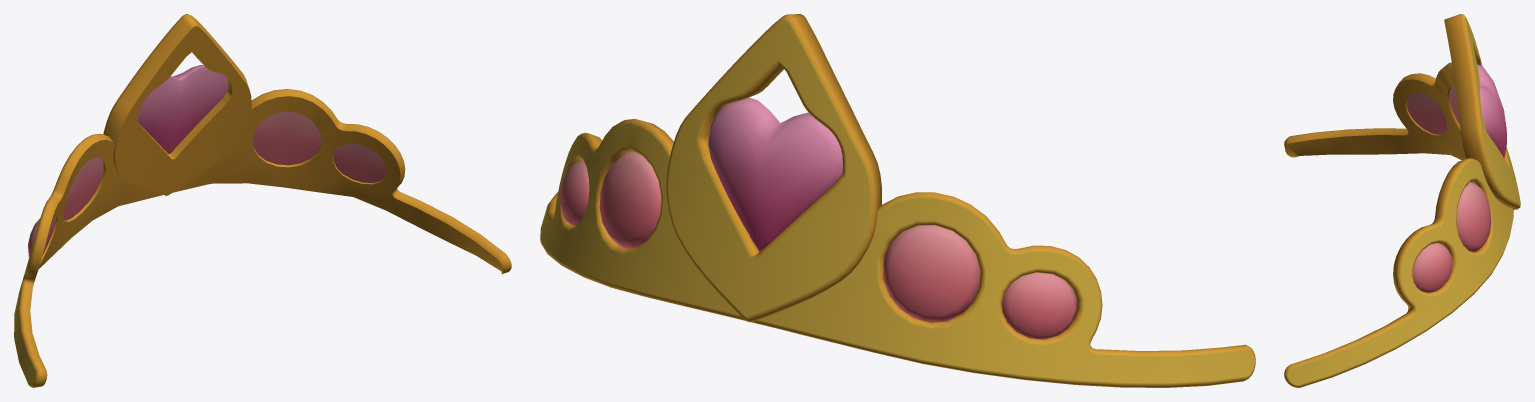
Rendered from Cosmetic_Tiara.glb.
3 views of the same model, side by side, from view 1: azimuth 30°, elevation 25°; view 2: azimuth 150°, elevation 25°; view 3: azimuth 270°, elevation 25° (orthographic). The views are drawn at different scales.
Visible parts, largest first — view 1: Cosmetic_Tiara; view 2: Cosmetic_Tiara; view 3: Cosmetic_Tiara.
Part boxes in pixels (x1,y1,x2,y2): Cosmetic_Tiara: (14,14,511,387); Cosmetic_Tiara: (540,14,1255,387); Cosmetic_Tiara: (1284,14,1520,387).
Size of the model in its own units: 0.9823 by 0.5015 by 0.4184.
